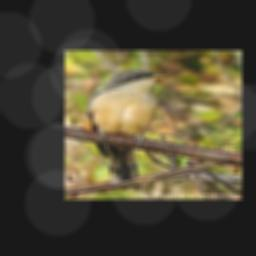Cuckoo: (84, 70, 171, 191)
